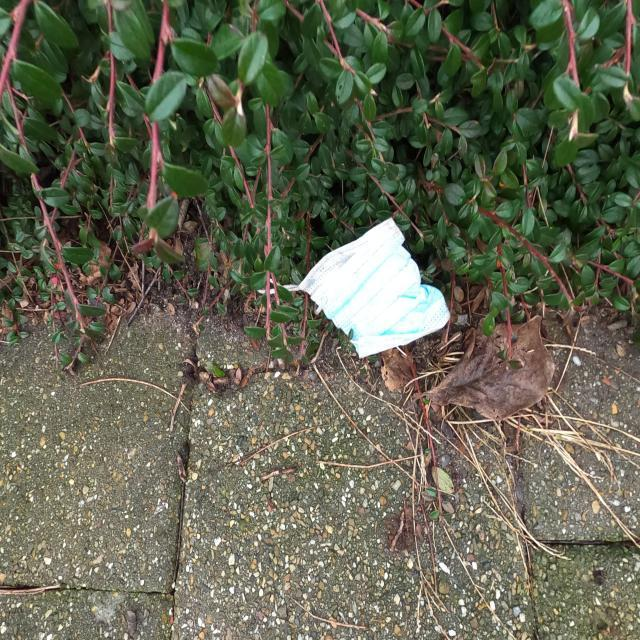Mask: (291, 214, 462, 369)
